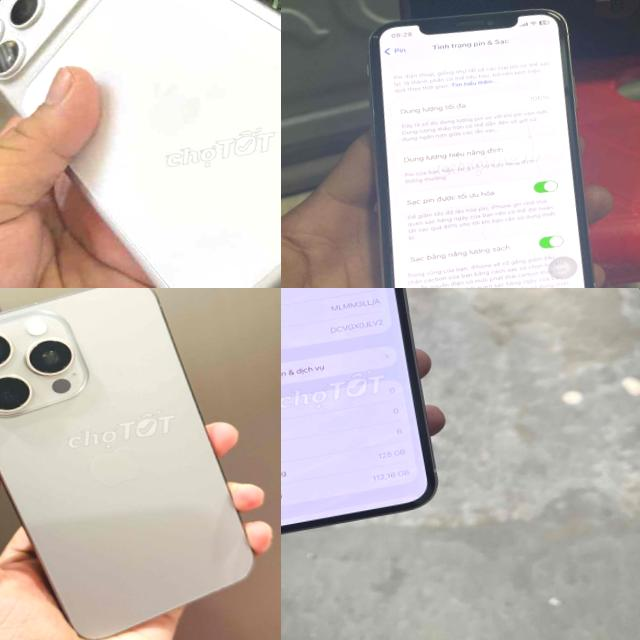gen_12_13: (281, 288, 461, 548)
gen_15: (0, 288, 281, 640)
gen_17: (0, 0, 281, 288)
gen_x_xs: (341, 0, 608, 288)
